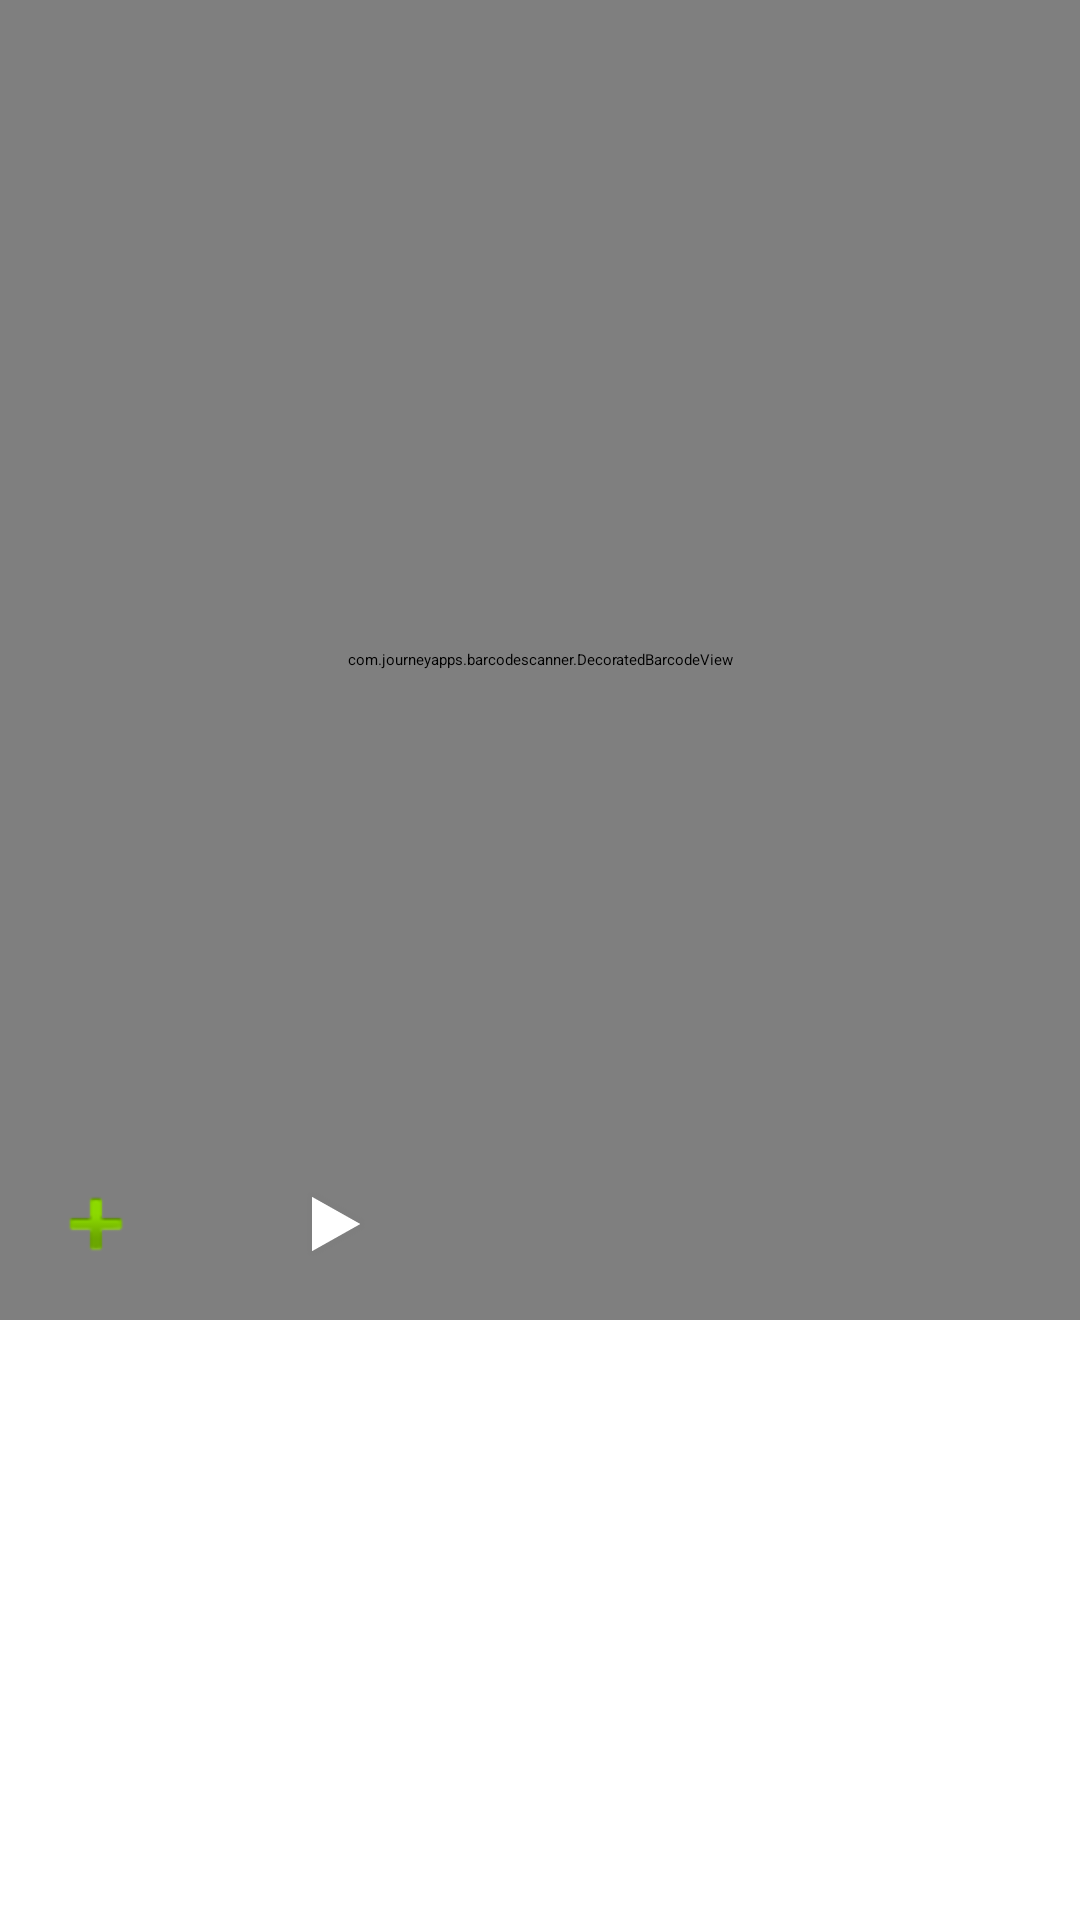

Named icons in this screenshot (1080 × 1920) and their centers, (x,y):
add: (96,1223)
play: (336,1224)
